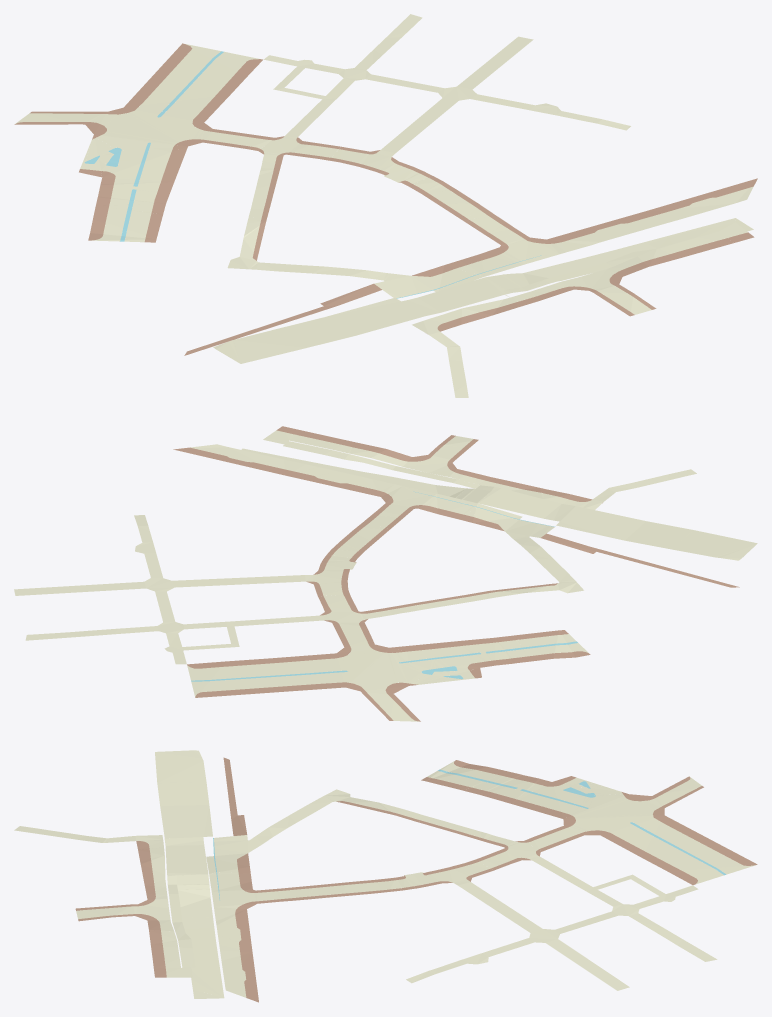
The model's file is data49.glb.
The picture shows the model from 3 angles, top to bottom: view 1: azimuth 30°, elevation 25°; view 2: azimuth 150°, elevation 25°; view 3: azimuth 270°, elevation 25°; orthographic projection. The views are drawn at different scales.
Bounding box in the file's own units: 309 × 12.66 × 371.
